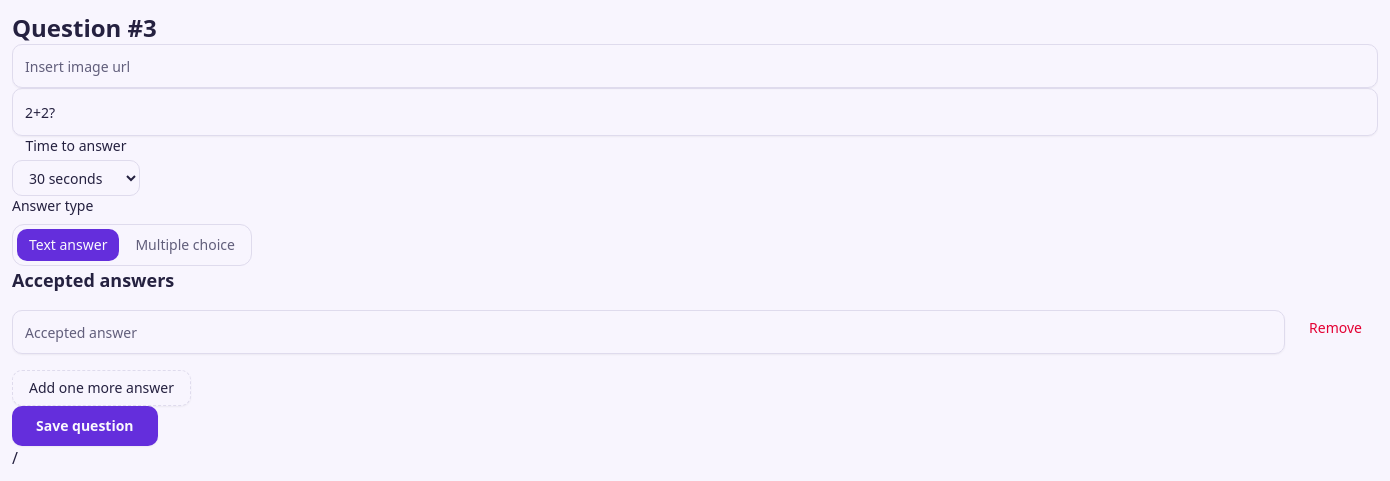
EditQuestionForm › requires at least one accepted answer
Expected: the field with test id "question-text-input" holds "2+2?", [12,88,1378,136]
Step 1. Click the button with test id "remove-answer-button" → [1336, 328], box [1293,310,1378,346]
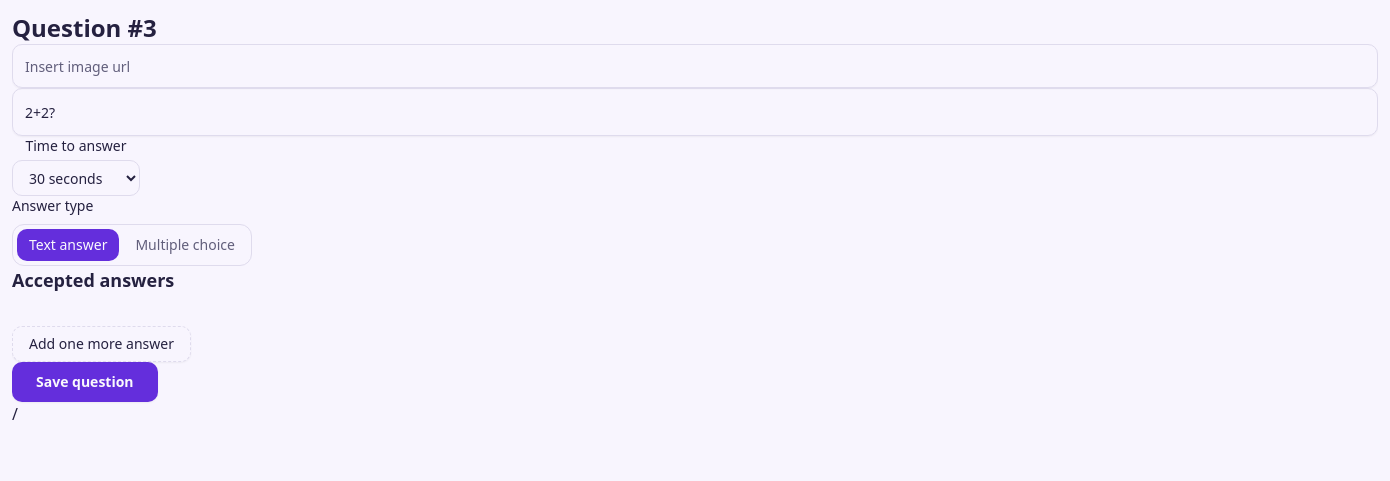
Step 2. Click the button with test id "save-question-button" → [85, 382], box [12,362,158,402]
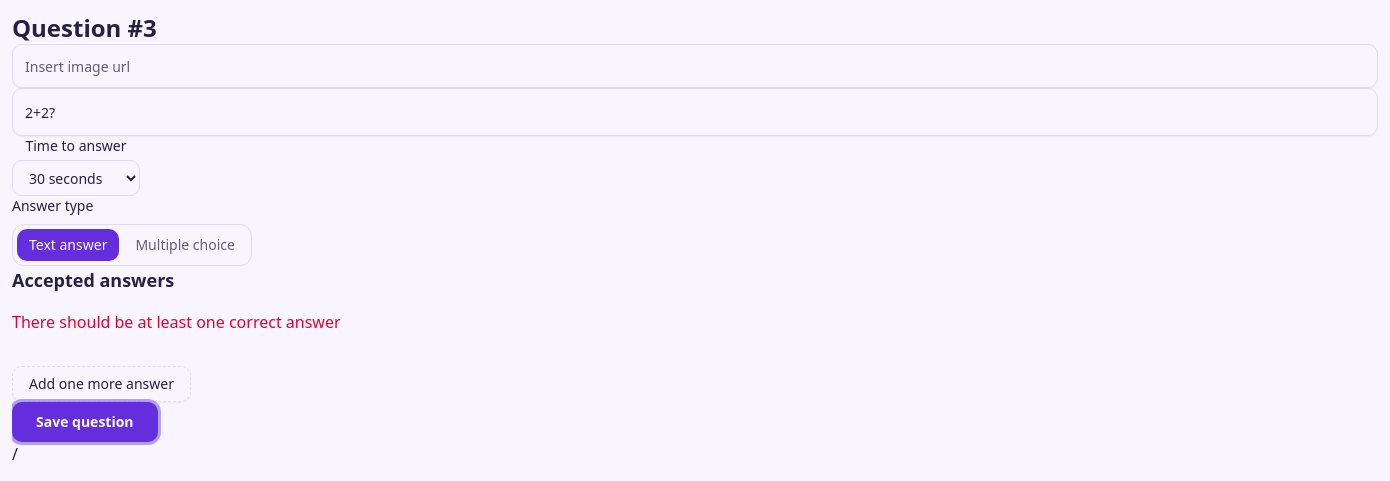
Expected: the text "There should be at least one correct answer" is shown, [12,311,341,333]
